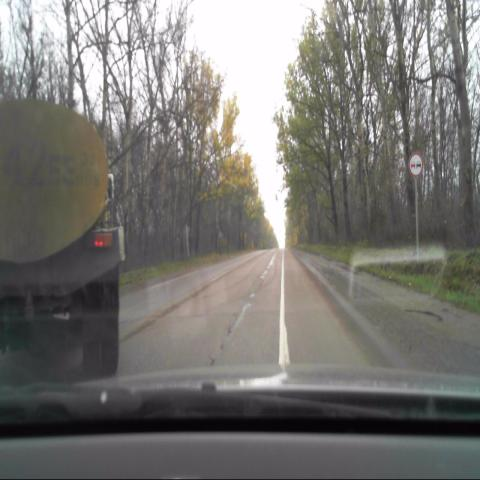3_20: (408, 153, 423, 176)
